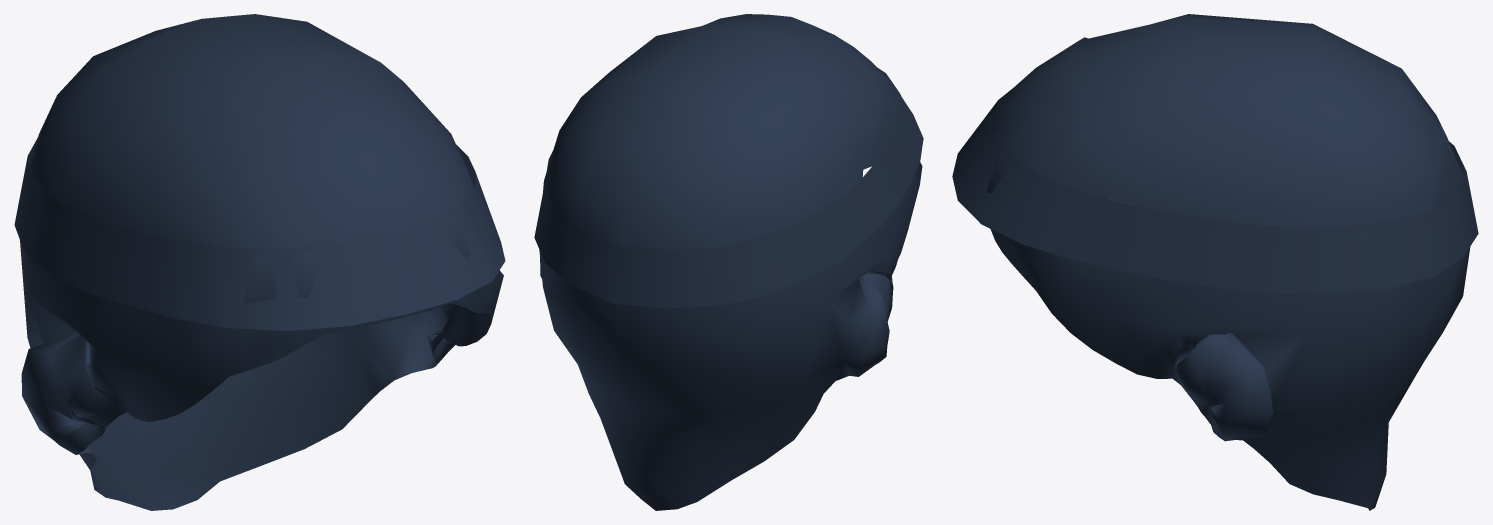
File: beanie.glb
The picture shows the model from 3 angles, left to right: view 1: azimuth 30°, elevation 25°; view 2: azimuth 150°, elevation 25°; view 3: azimuth 270°, elevation 25°; orthographic projection. The views are drawn at different scales.
Visible parts, largest first — view 1: beanie; view 2: beanie; view 3: beanie.
Part boxes in pixels (<box>): beanie: <box>14,14,505,510</box>; beanie: <box>534,14,923,510</box>; beanie: <box>952,14,1478,510</box>.
Size of the model in its own units: 0.2078 by 0.2493 by 0.2515.
